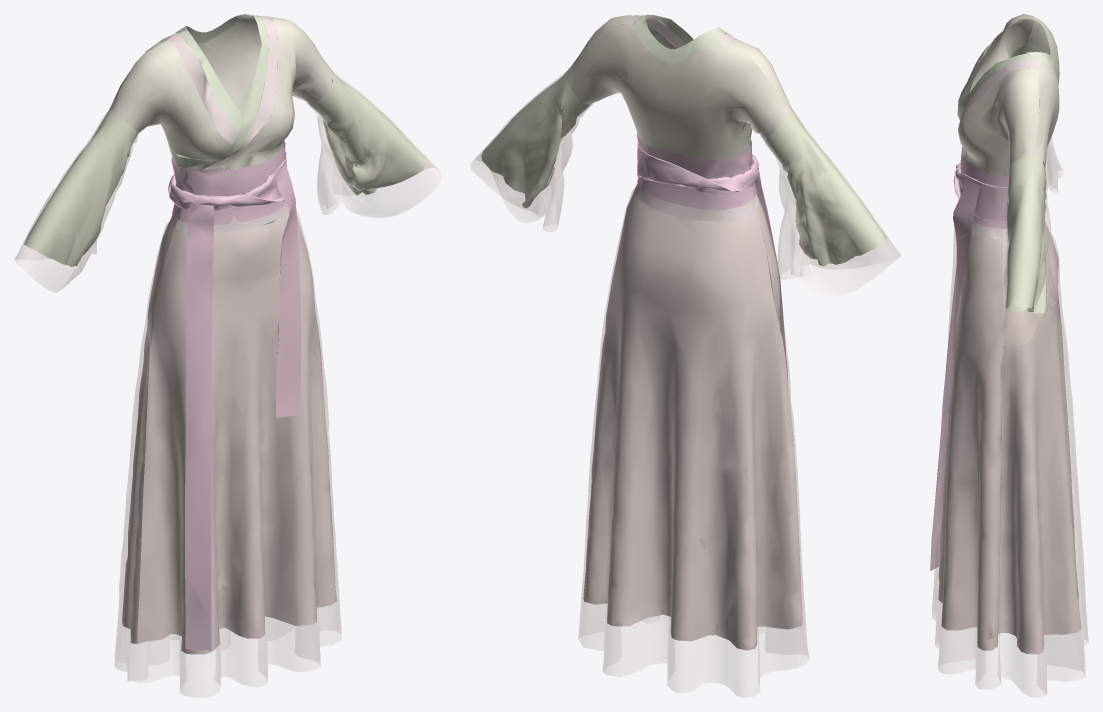
The picture shows the model from 3 angles, left to right: view 1: azimuth 30°, elevation 25°; view 2: azimuth 150°, elevation 25°; view 3: azimuth 270°, elevation 25°; orthographic projection. The views are drawn at different scales.
Bounding box in the file's own units: 105 × 151 × 34.94.
